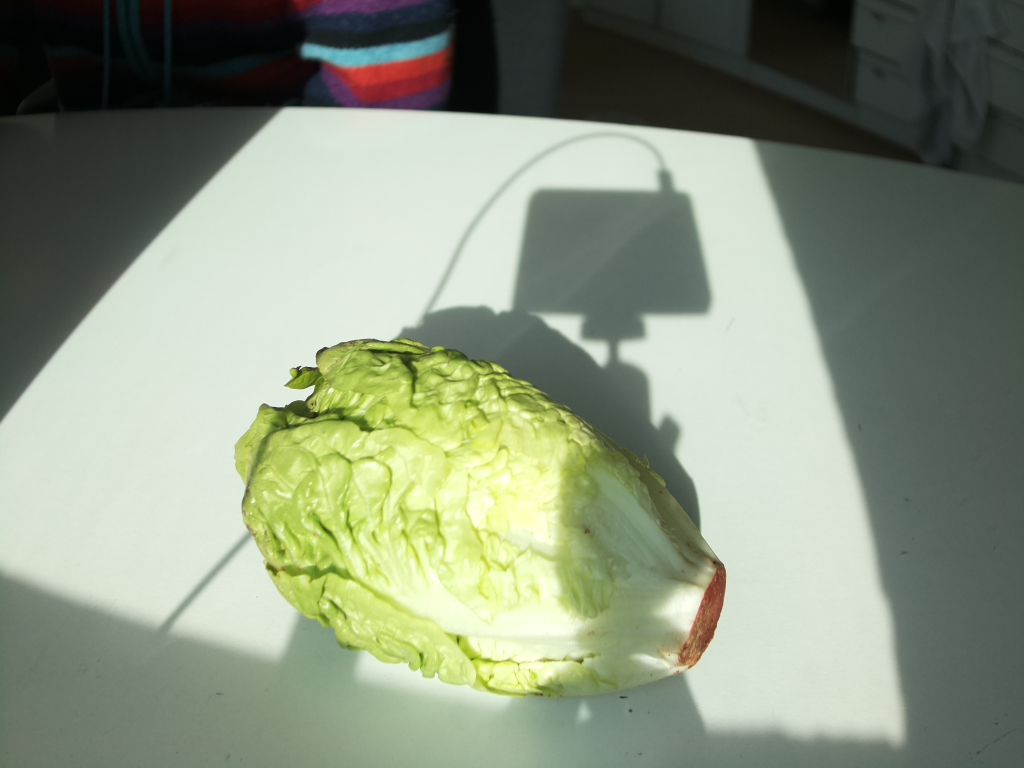salad: (233, 338, 731, 698)
